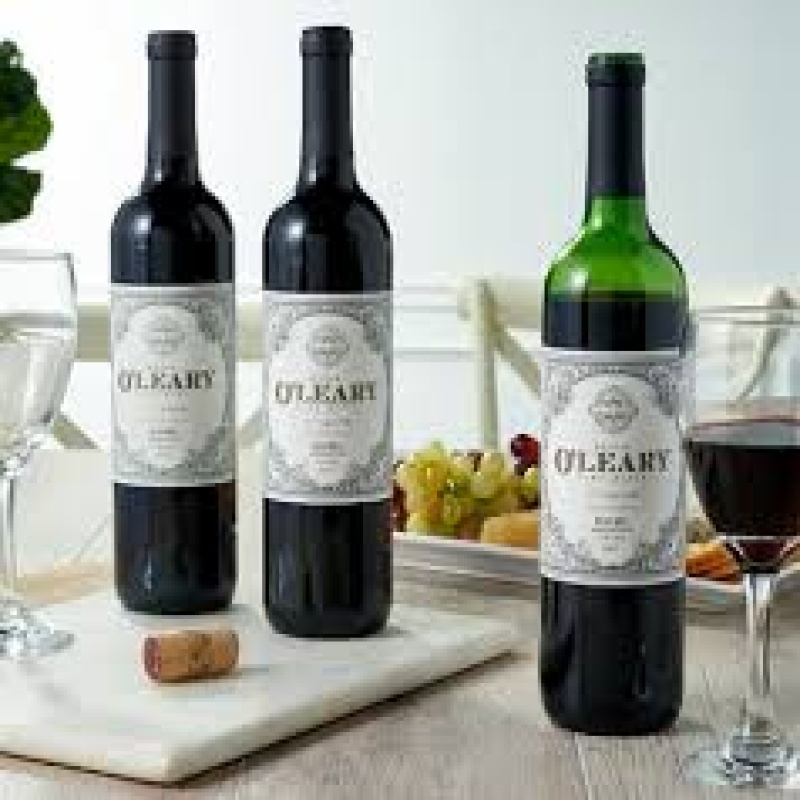wine: (534, 48, 691, 737), (266, 30, 396, 621), (111, 33, 239, 609)
